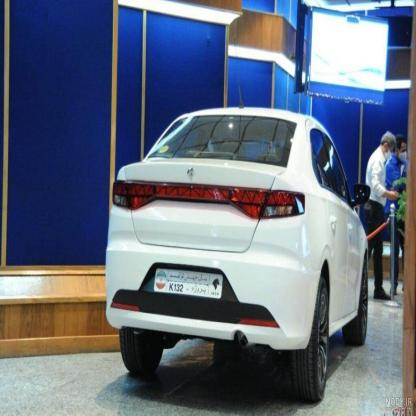Car: (104, 106, 372, 403)
